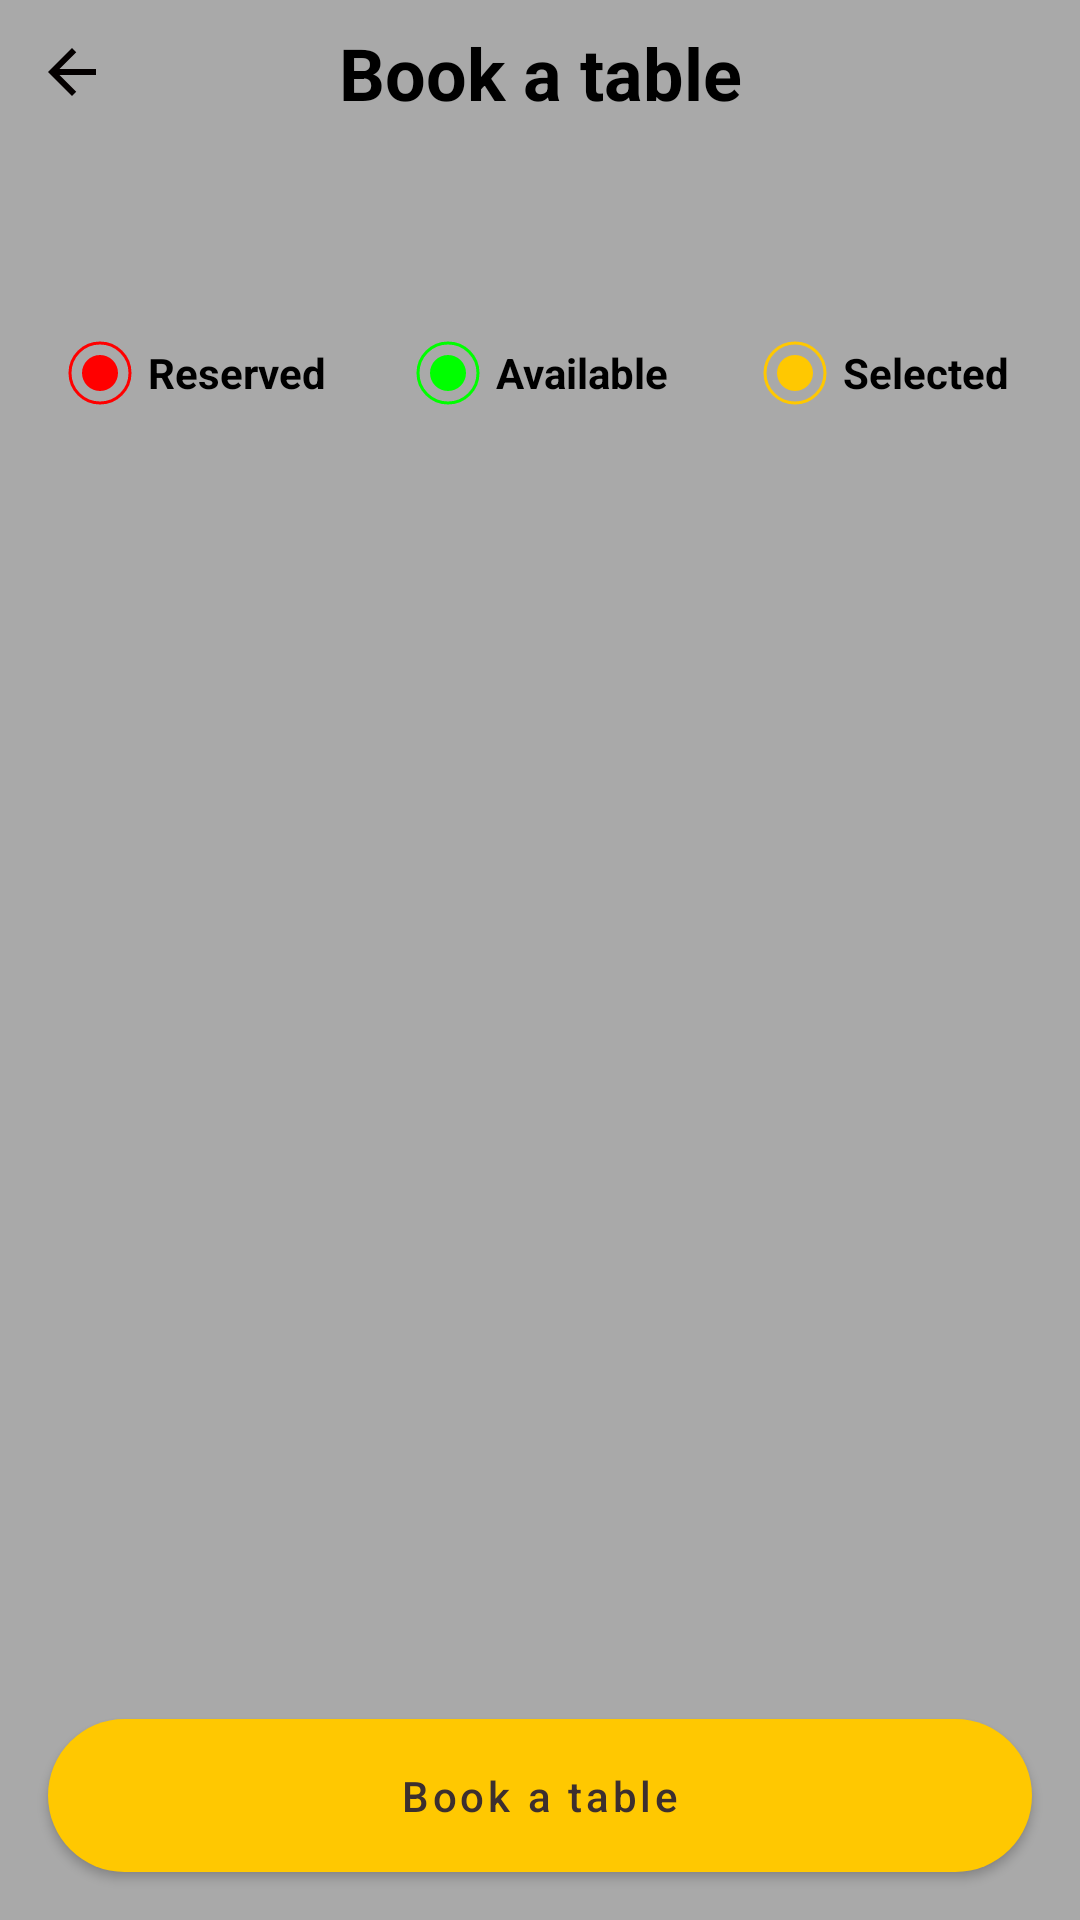

Icon click points for this 1080w x 1920h phone screenshot, format [x,y]:
back: [72,72]
